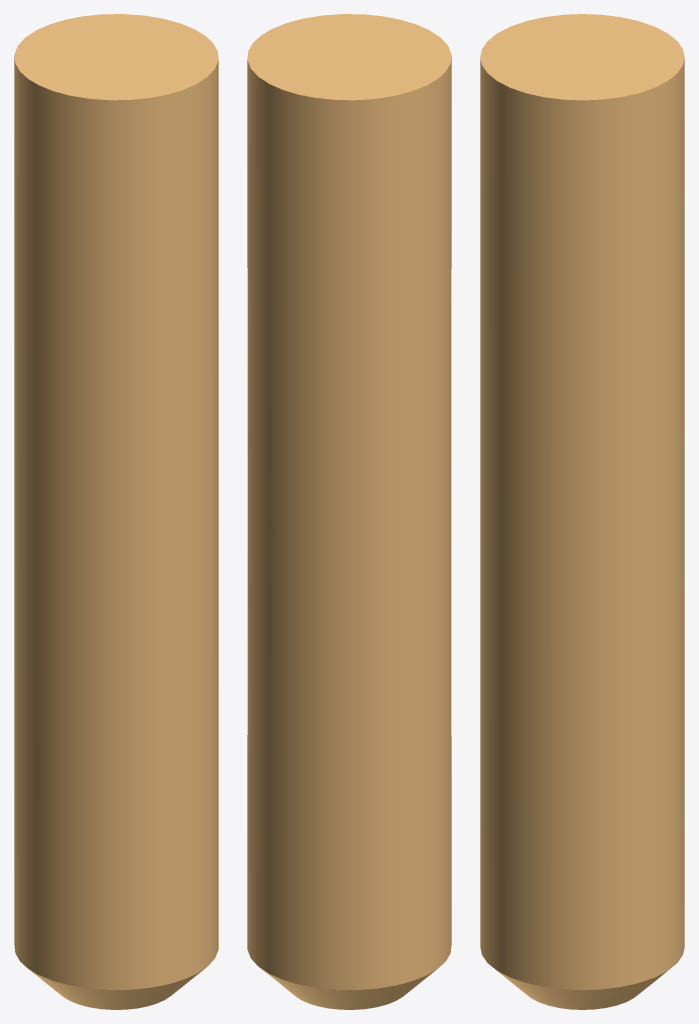
Rendered from dart.fbx.
The picture shows the model from 3 angles, left to right: view 1: azimuth 30°, elevation 25°; view 2: azimuth 150°, elevation 25°; view 3: azimuth 270°, elevation 25°; orthographic projection.
Visible parts, largest first — view 1: dart; view 2: dart; view 3: dart.
Part boxes in pixels (<box>): dart: <box>14,14,218,1009</box>; dart: <box>247,14,451,1009</box>; dart: <box>480,14,684,1009</box>.
Size of the model in its own units: 2 by 10 by 2.
